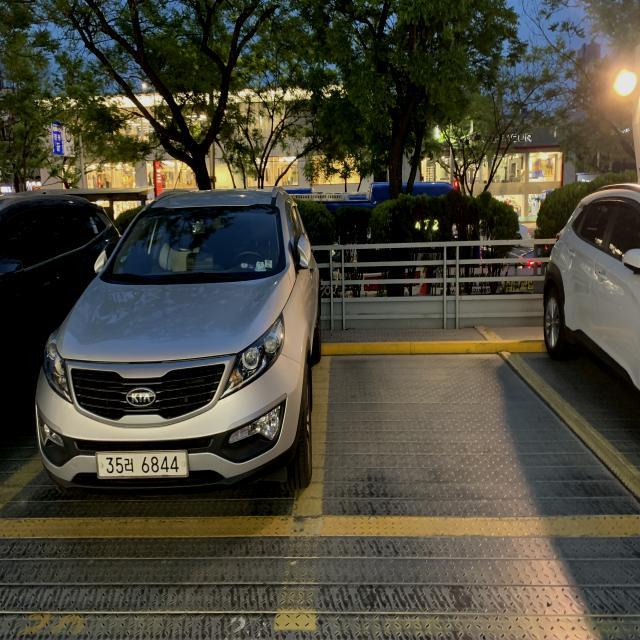empty: (304, 341, 640, 527)
occupied: (22, 178, 324, 542)
